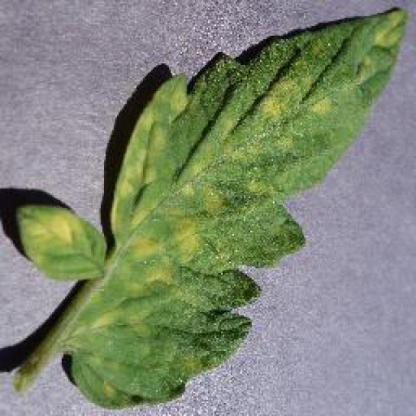Tomato_Leaf_Mold: (16, 7, 408, 410)
